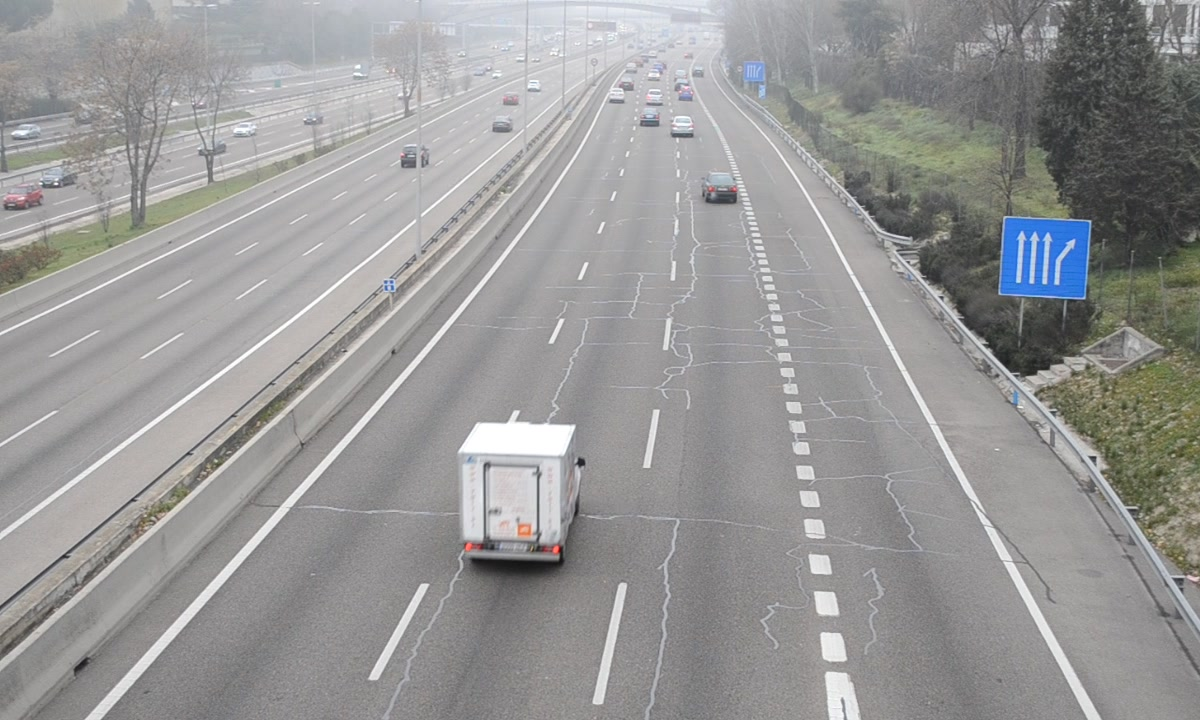car: (704, 170, 739, 205)
small-truck: (457, 424, 584, 564)
